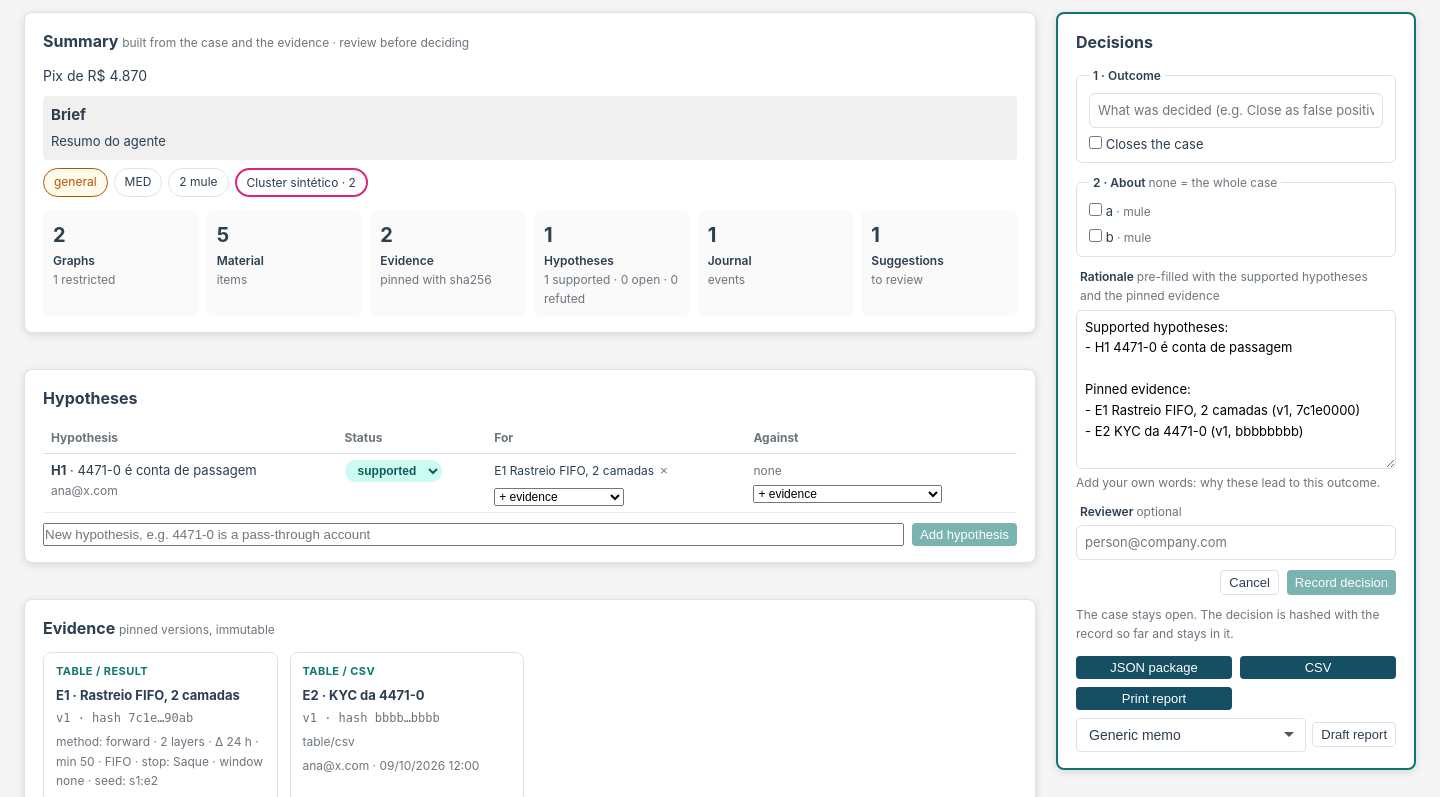
Test: CaseDossier (mode=dossier) › a type without catalog names the decision and says whether it closes the case
Check: the button with test id "decision-record" is disabled, box [1287,570,1396,595]
Type " False positive " into the field with test id "decision-outcome-label" at (1236, 110), box [1089,93,1383,128]
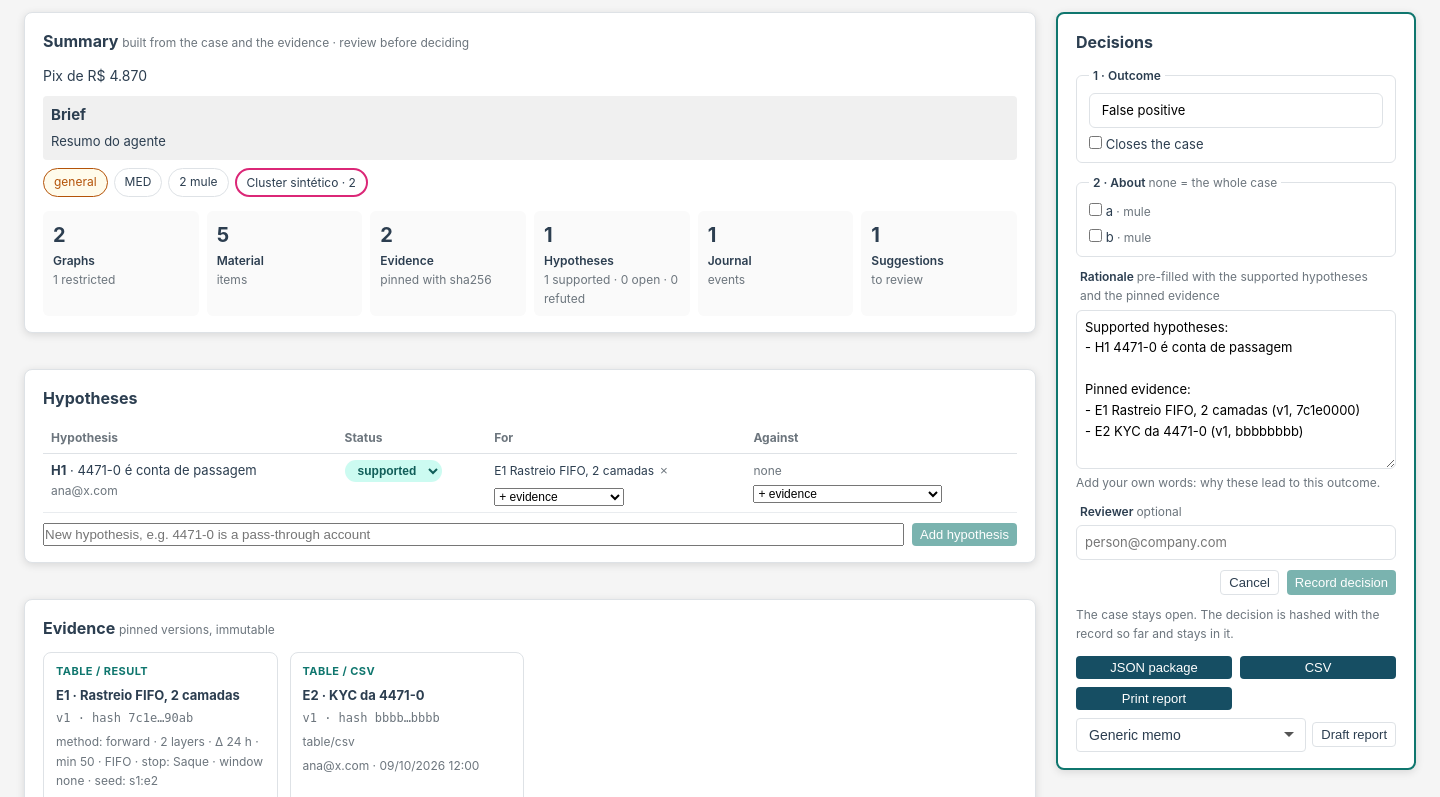
Replace the text in the text box with test id "decision-rationale" with "Nothing links the accounts." at (1236, 389), box [1076,310,1396,469]
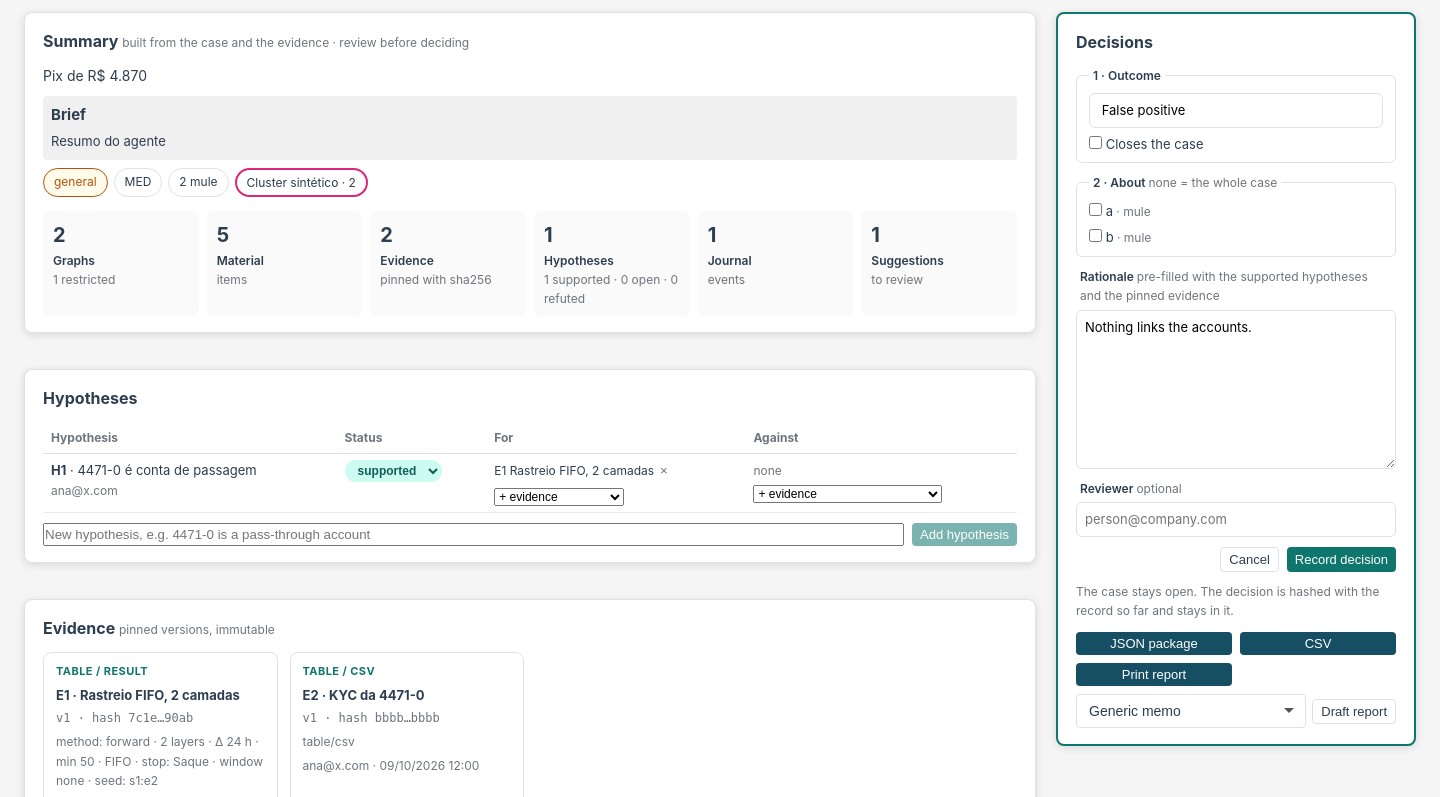
Click the checkbox with test id "decision-closes" at (1096, 142), box [1089,136,1102,149]
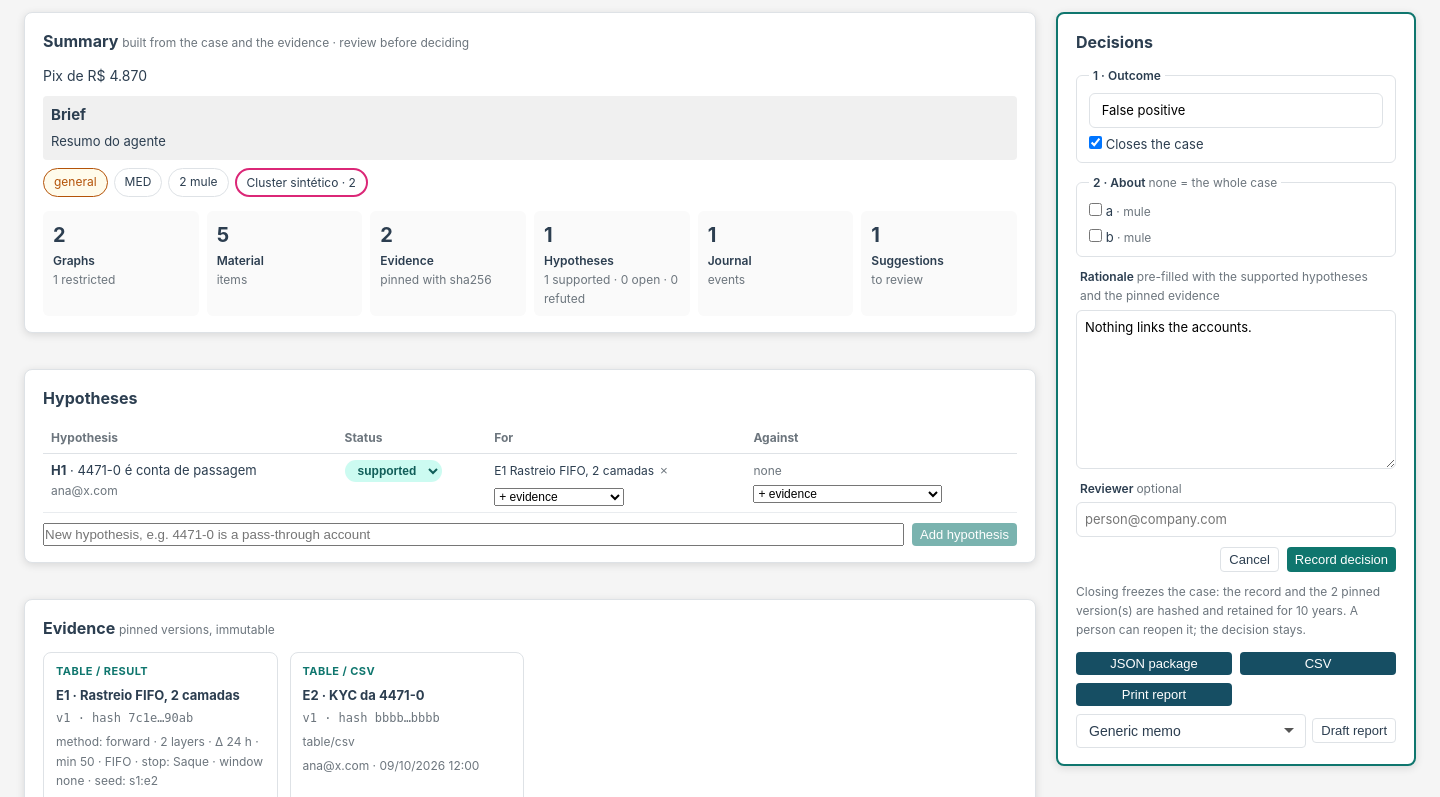
Check: the text with test id "decision-effect" shows "Closing freezes the case", box [1076,584,1380,638]
Click the button with test id "decision-record" at (1341, 560), box [1287,547,1396,572]
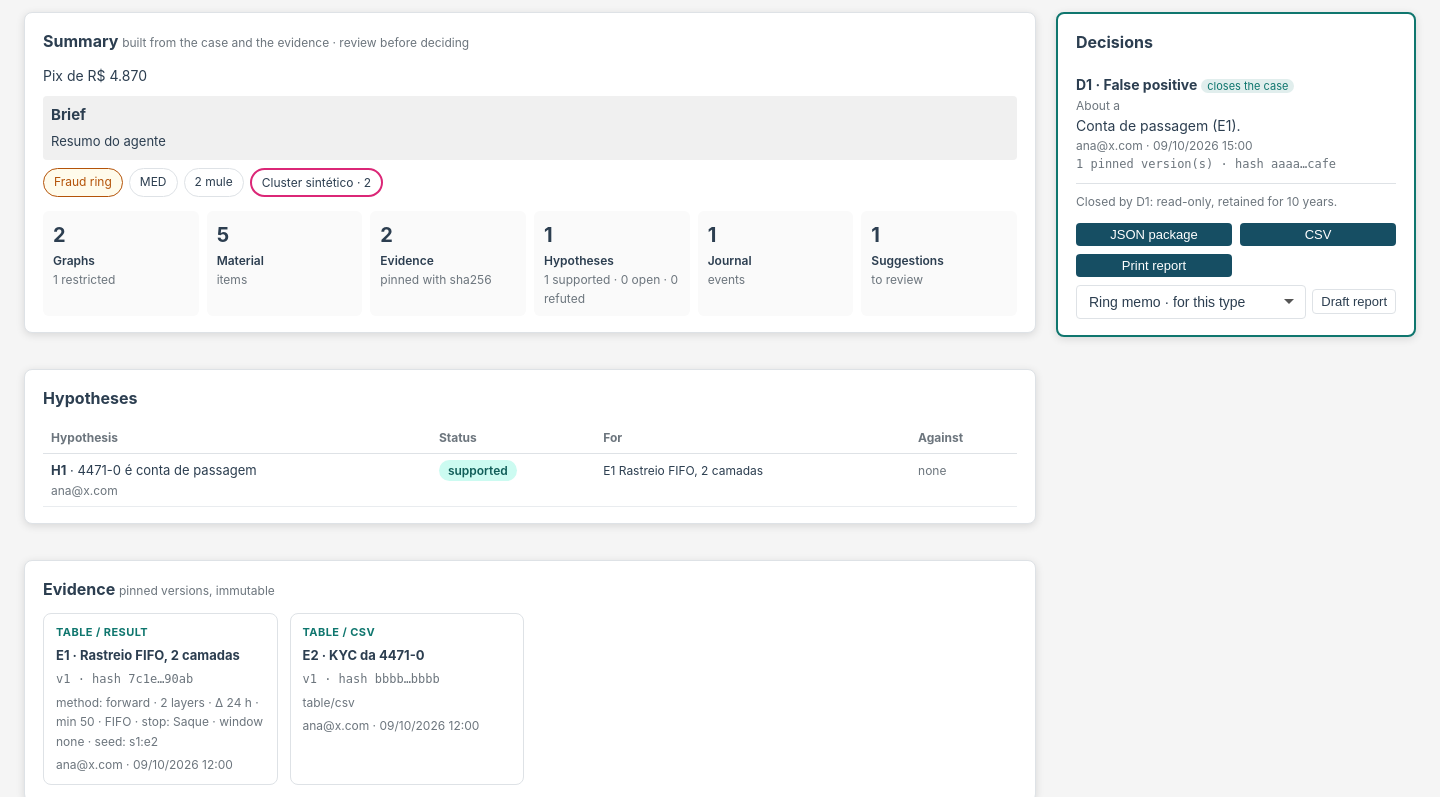
Check: the text with test id "decision-closed" shows "Closed by D1", box [1076,194,1337,208]
